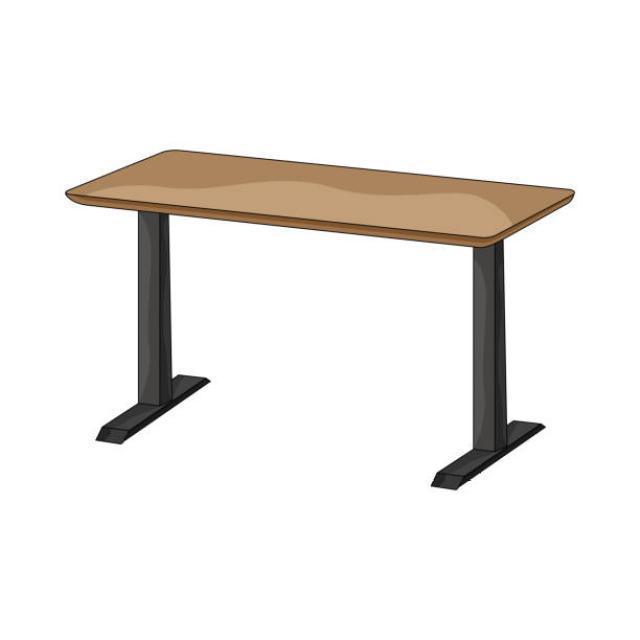table: (63, 147, 576, 490)
